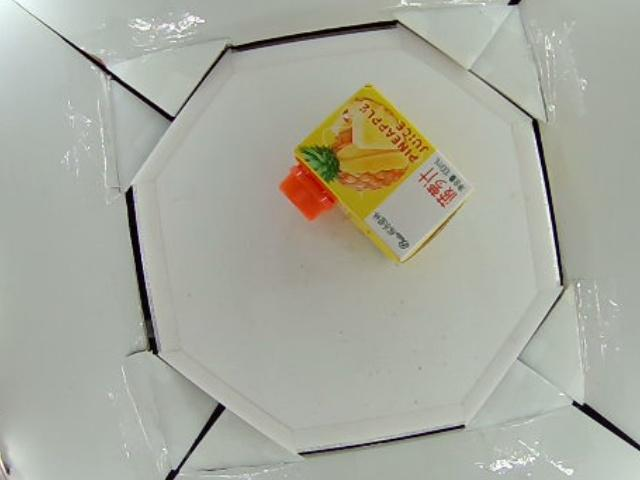Bottle: (276, 86, 472, 272)
